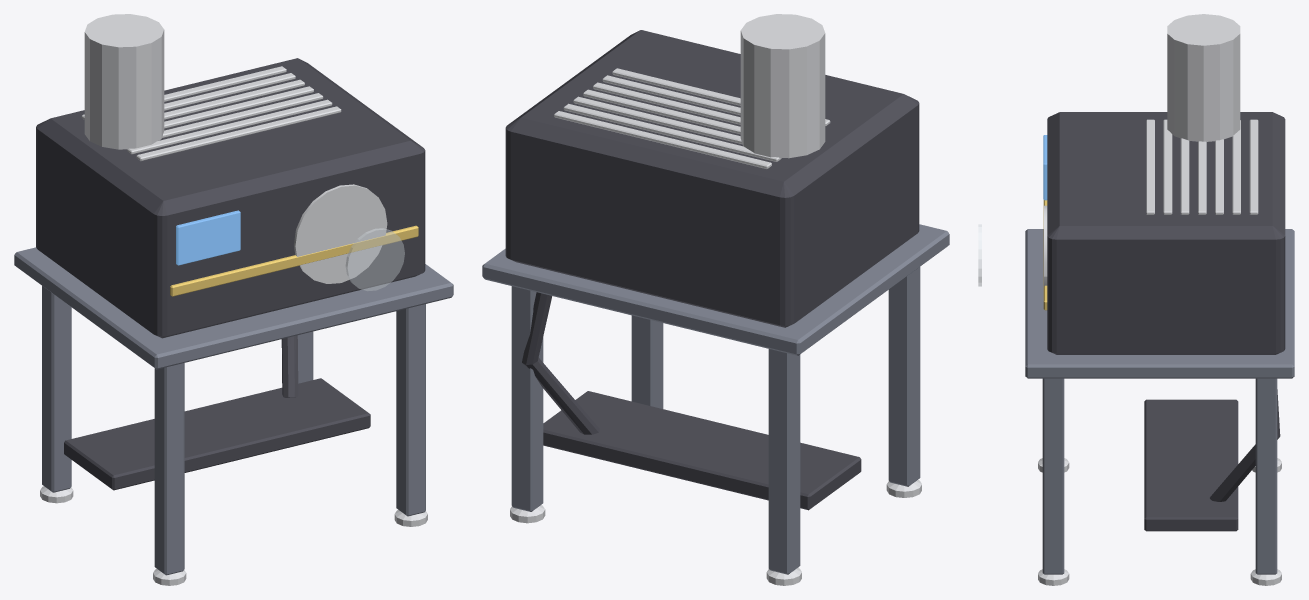
File: cinema-multiplex-and-foyer-digital-projector-plinth-2e5f1d38__34661.glb
3 renders of one model, left to right at view 1: azimuth 30°, elevation 25°; view 2: azimuth 150°, elevation 25°; view 3: azimuth 270°, elevation 25°, orthographic. The views are drawn at different scales.
Visible parts, largest first — view 1: digital-projector-plinth; view 2: digital-projector-plinth; view 3: digital-projector-plinth.
Boxes of the visible parts, <box> form: digital-projector-plinth: <box>14,14,453,585</box>; digital-projector-plinth: <box>482,14,949,585</box>; digital-projector-plinth: <box>978,14,1294,585</box>.
Size of the model in its own units: 1.04 by 1.6 by 1.01.
